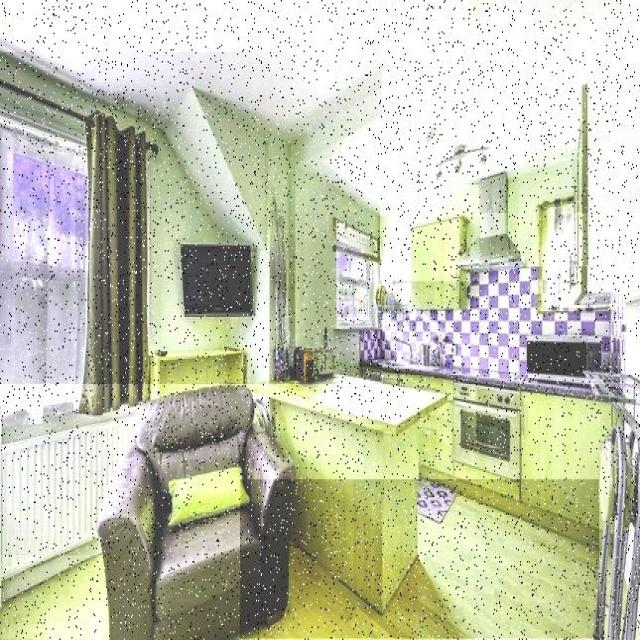Wall: (0, 0, 640, 213), (0, 53, 382, 384), (241, 480, 599, 639), (360, 266, 610, 374), (381, 187, 479, 281), (0, 557, 107, 639), (508, 159, 573, 265)
